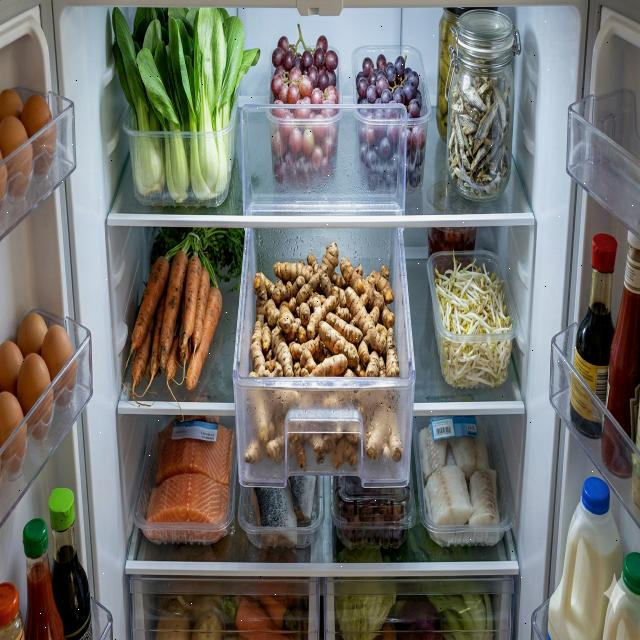anchovies: (447, 78, 511, 200)
bean_sprouts: (435, 251, 513, 389)
carrot: (131, 250, 223, 394)
egg: (0, 312, 77, 476), (0, 89, 58, 212)
fish: (147, 416, 236, 543), (419, 417, 501, 544), (252, 476, 316, 549)
grape: (272, 24, 338, 188), (356, 52, 426, 190)
pakchoy: (112, 8, 261, 204)
turmeric: (245, 242, 402, 469)
